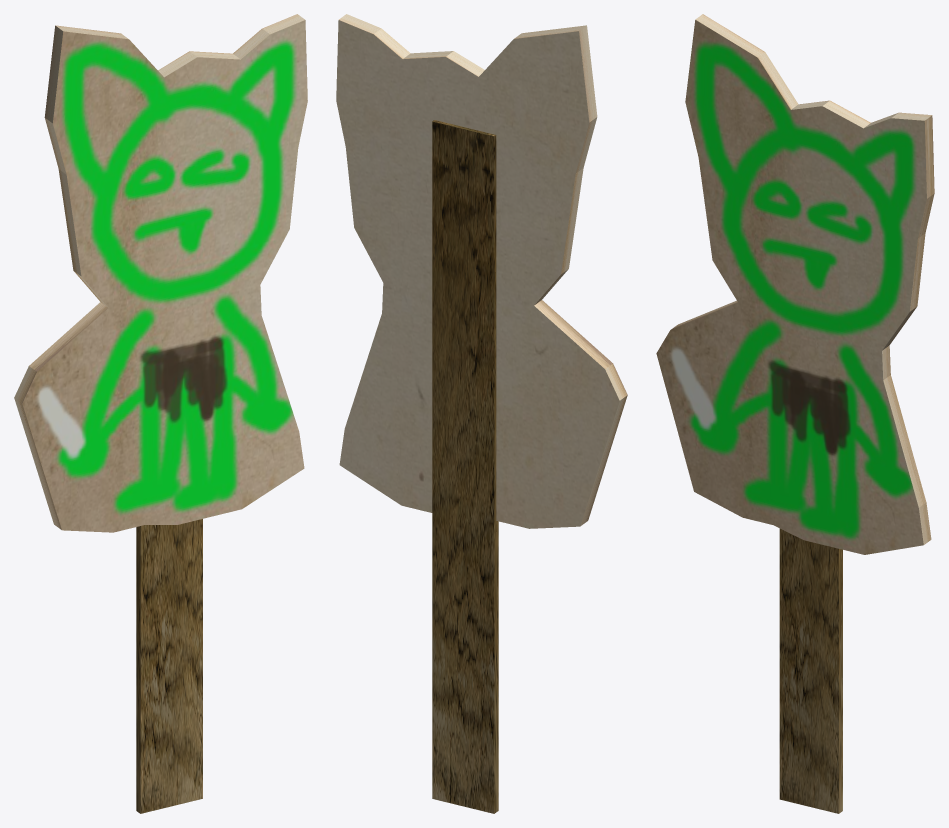
Rendered from goblinEnemy.fbx.
3 views of the same model, side by side, from view 1: azimuth 30°, elevation 25°; view 2: azimuth 150°, elevation 25°; view 3: azimuth 330°, elevation 25° (orthographic). The views are drawn at different scales.
Parts seen in each view (by area): view 1: Stick, Stick.001; view 2: Stick, Stick.001; view 3: Stick, Stick.001.
Boxes of the visible parts, x1,y1,x2,y2 form: Stick: (14,14,307,532); Stick.001: (136,519,202,813); Stick: (336,14,627,528); Stick.001: (432,120,498,813); Stick: (656,14,934,554); Stick.001: (779,528,842,813).
Bounding box in the file's own units: 94.33 × 255 × 5.87.
2 materials, 2 textured.
